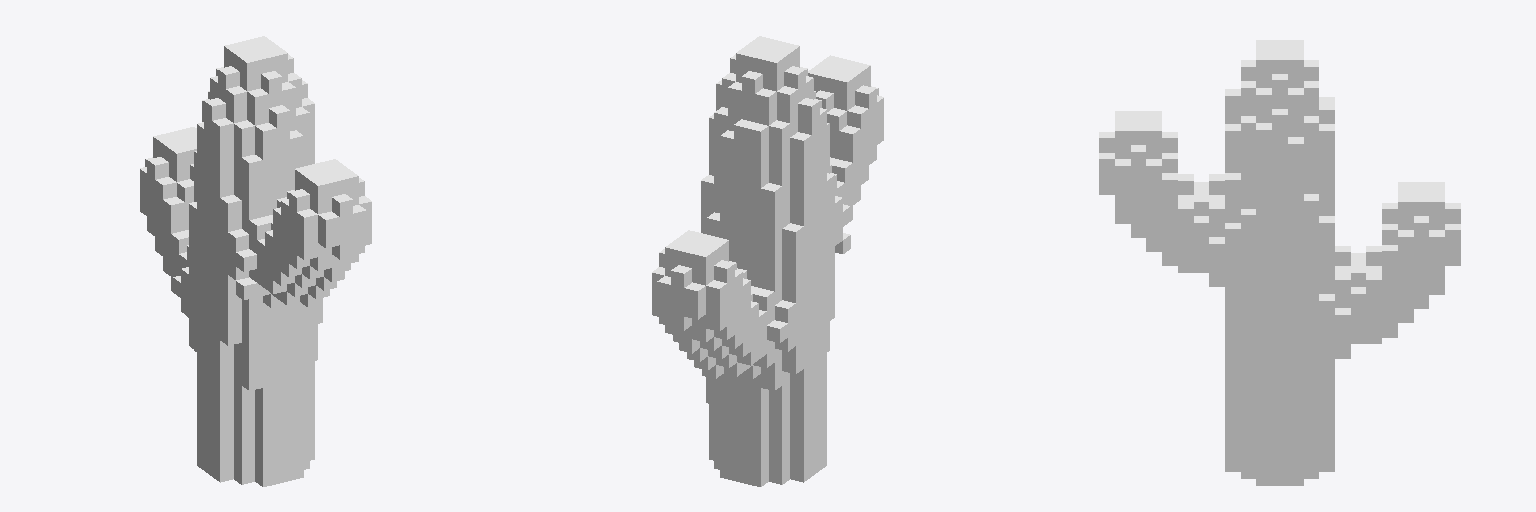
File: 1bigcactus.obj
3 views of the same model, side by side, from view 1: azimuth 30°, elevation 25°; view 2: azimuth 150°, elevation 25°; view 3: azimuth 270°, elevation 25° (orthographic).
Visible parts, largest first — view 1: object 1; view 2: object 1; view 3: object 1.
Boxes of the visible parts, x1=… form: object 1: x1=140, y1=36, x2=371, y2=486; object 1: x1=652, y1=36, x2=883, y2=486; object 1: x1=1099, y1=40, x2=1460, y2=485.
Bounding box in the file's own units: 0.7 × 2.9 × 2.3.